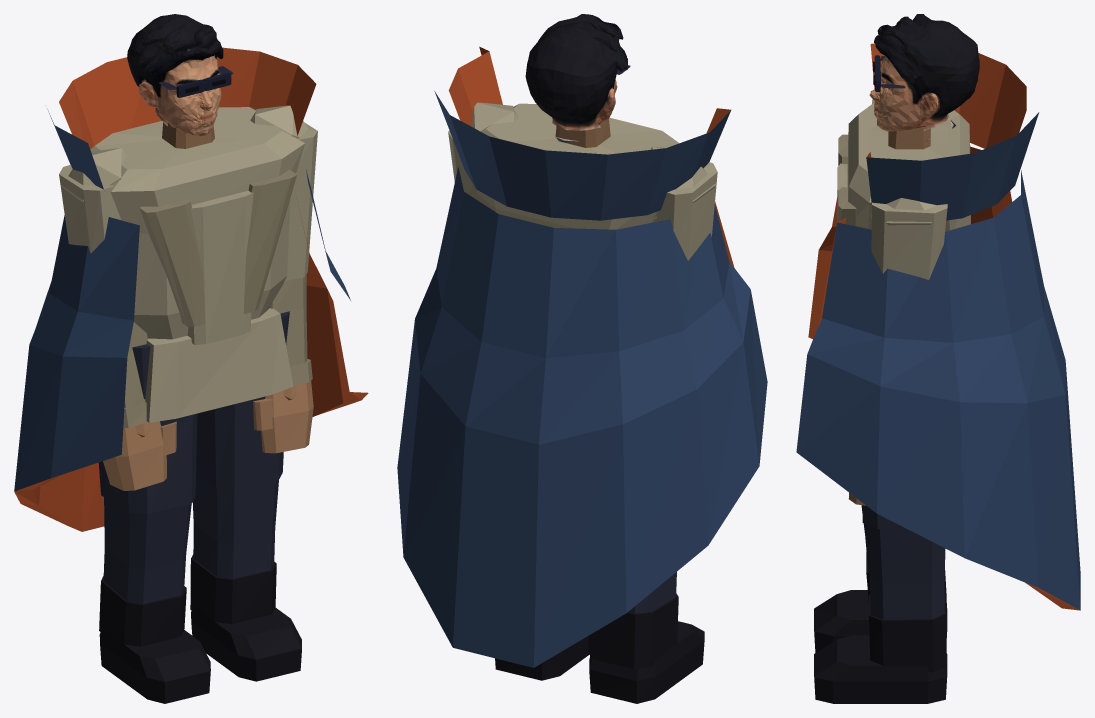
The model's file is king2-hybrid.glb.
3 views of the same model, side by side, from view 1: azimuth 30°, elevation 25°; view 2: azimuth 150°, elevation 25°; view 3: azimuth 270°, elevation 25° (orthographic). The views are drawn at different scales.
Visible parts, largest first — view 1: seg:chest, seg:lowerLegR, seg:lowerLegL, seg:pelvis, seg:head, seg:upperLegR, seg:footL, seg:footR, seg:upperLegL, seg:handL, seg:handR, seg:upperArmL (+5 smaller); view 2: seg:chest, seg:head, seg:lowerLegL, seg:footL, seg:upperArmL, seg:footR, seg:neck, seg:upperArmR; view 3: seg:chest, seg:lowerLegR, seg:head, seg:footR, seg:upperArmR, seg:footL, seg:neck, seg:upperLegR.
Part boxes in pixels (left/top/right/bottom): seg:chest: left=14, top=47, right=368, bottom=531; seg:lowerLegR: left=190, top=474, right=278, bottom=624; seg:lowerLegL: left=99, top=497, right=191, bottom=646; seg:pelvis: left=145, top=308, right=293, bottom=422; seg:head: left=127, top=14, right=223, bottom=135; seg:upperLegR: left=196, top=311, right=289, bottom=490; seg:footL: left=99, top=629, right=210, bottom=703; seg:footR: left=191, top=607, right=301, bottom=681; seg:upperLegL: left=98, top=344, right=197, bottom=514; seg:handL: left=103, top=421, right=176, bottom=490; seg:handR: left=253, top=381, right=313, bottom=453; seg:upperArmL: left=59, top=164, right=120, bottom=253; seg:chest: left=397, top=46, right=767, bottom=667; seg:head: left=525, top=14, right=627, bottom=142; seg:lowerLegL: left=588, top=572, right=678, bottom=668; seg:footL: left=589, top=621, right=704, bottom=703; seg:upperArmL: left=654, top=162, right=717, bottom=260; seg:footR: left=495, top=636, right=589, bottom=680; seg:neck: left=555, top=118, right=610, bottom=147; seg:upperArmR: left=448, top=130, right=477, bottom=199; seg:chest: left=796, top=43, right=1080, bottom=610; seg:lowerLegR: left=866, top=524, right=946, bottom=671; seg:head: left=869, top=14, right=979, bottom=140; seg:footR: left=814, top=635, right=947, bottom=703; seg:upperArmR: left=871, top=202, right=947, bottom=279; seg:footL: left=814, top=590, right=947, bottom=652; seg:neck: left=888, top=127, right=930, bottom=149; seg:upperLegR: left=862, top=505, right=906, bottom=529.
Size of the model in its own units: 1.15 by 2.23 by 0.8931.
Materials: 5 (1 with a texture image).
